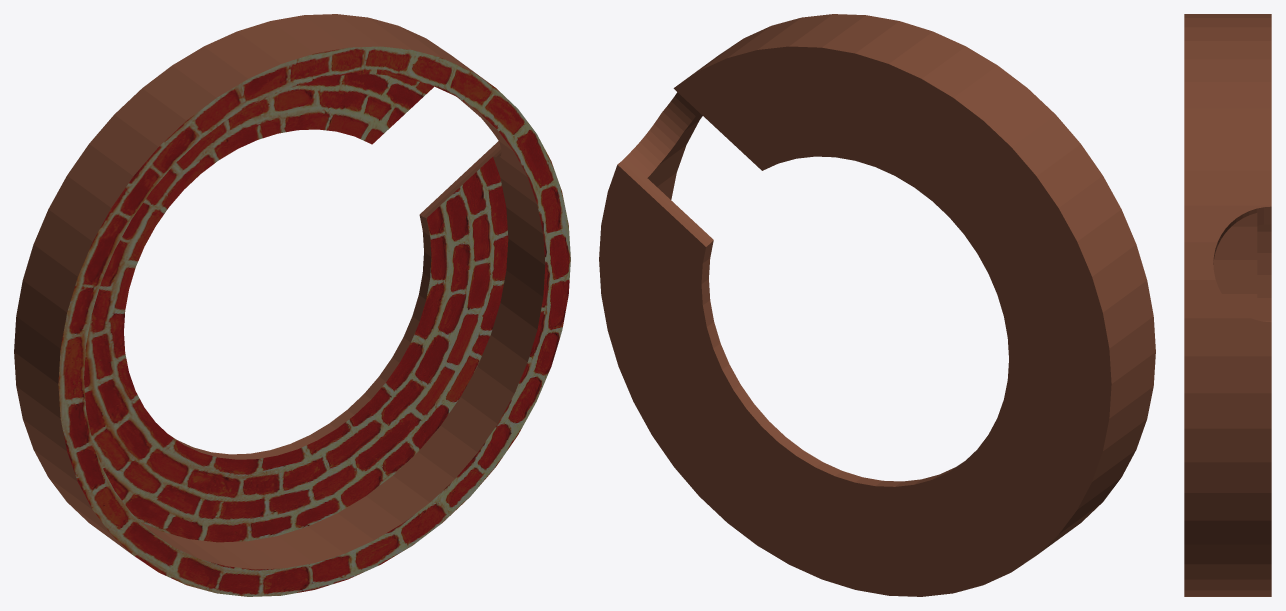
Rendered from pool_062.obj.
3 renders of one model, left to right at view 1: azimuth 30°, elevation 25°; view 2: azimuth 150°, elevation 25°; view 3: azimuth 270°, elevation 25°, orthographic.
Size of the model in its own units: 20 by 20 by 3.
